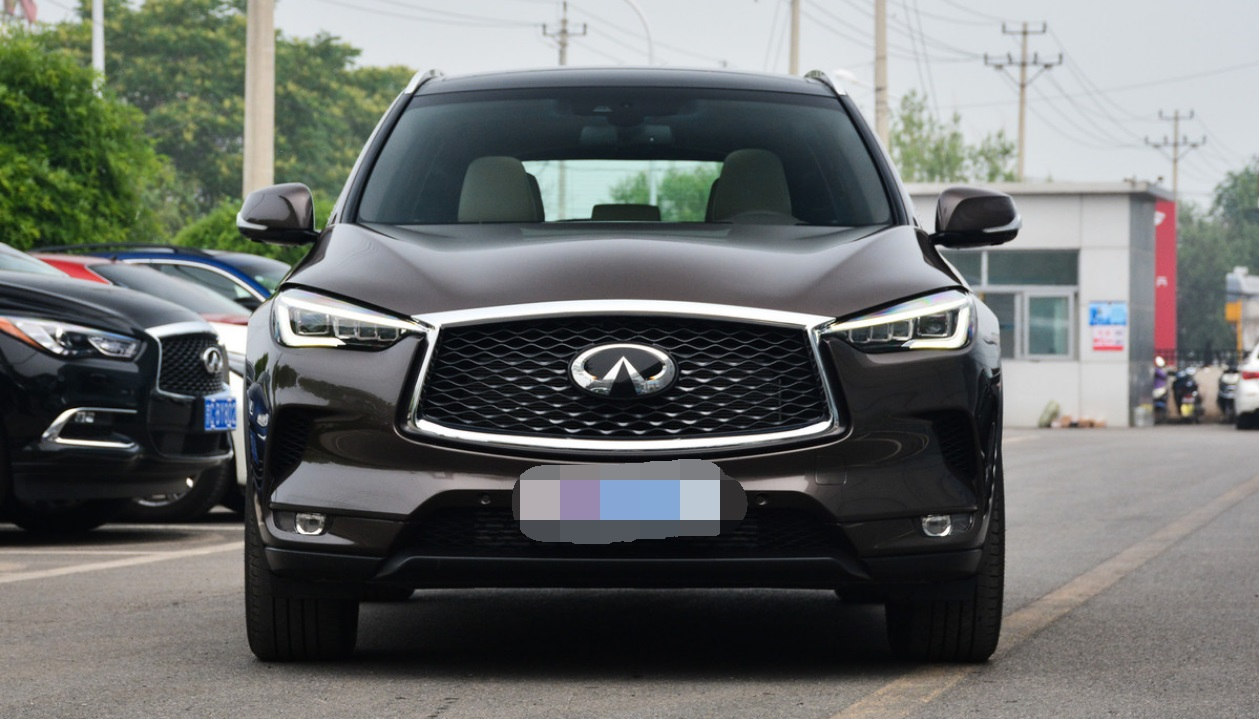SUV: (232, 63, 1028, 673)
